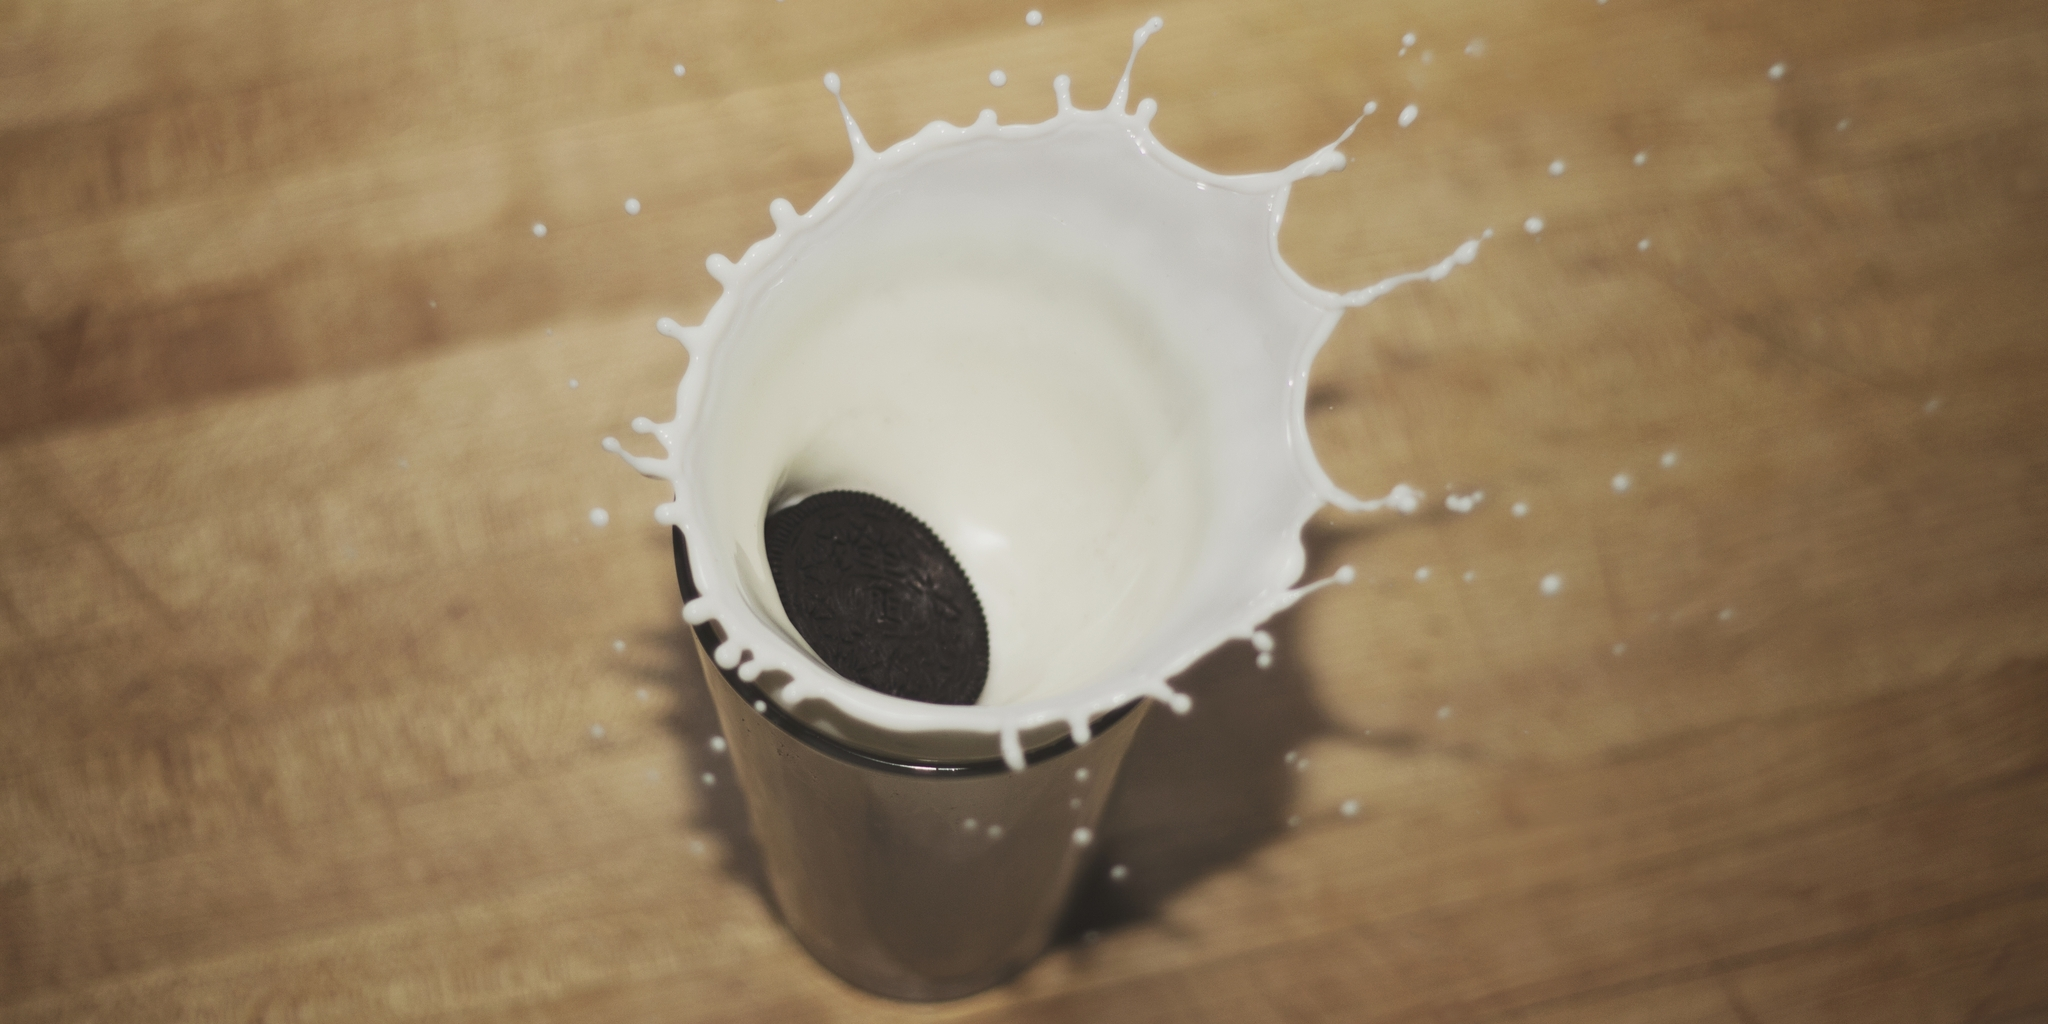glass of milk: (626, 73, 1343, 1003)
